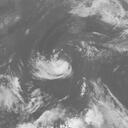cyclone: (31, 49, 74, 80)
